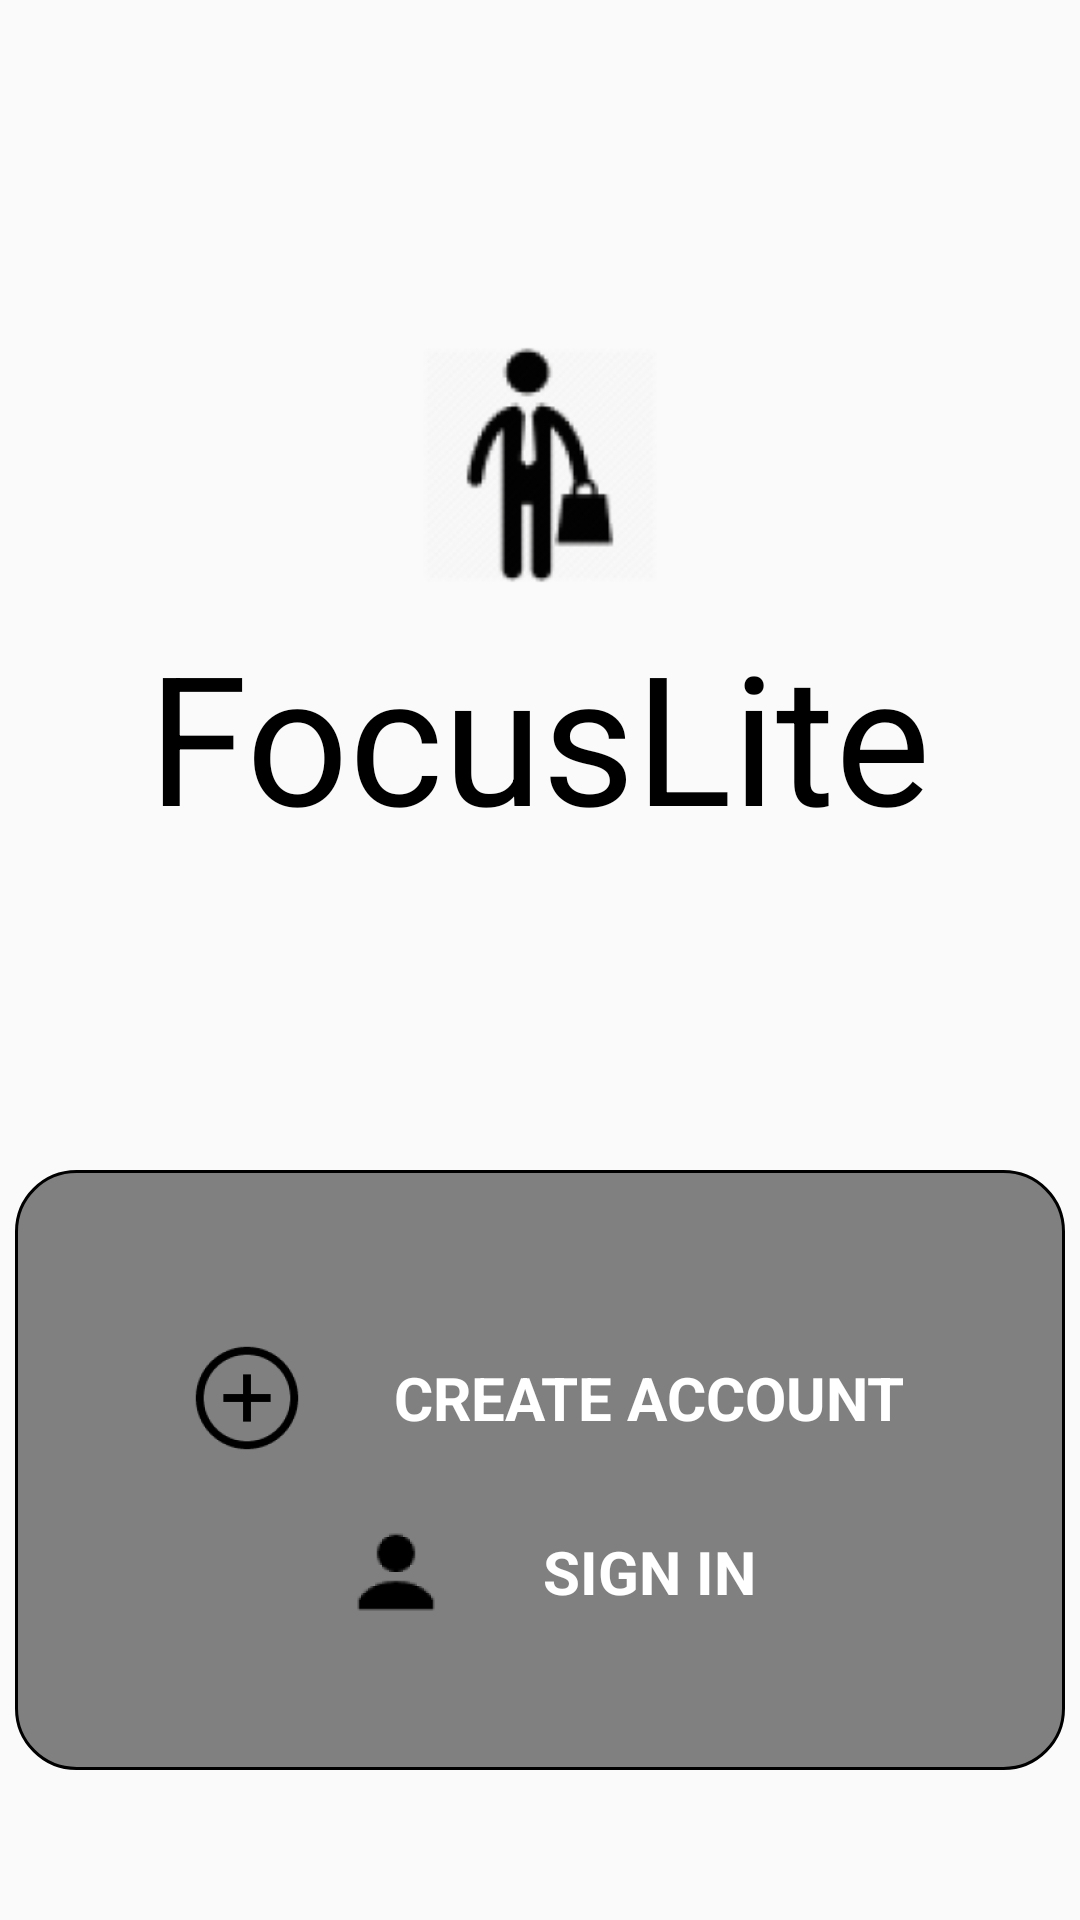

Where to tap for icons on this 1080px×1920px app screen, as point (x, y):
user: point (396, 1572)
